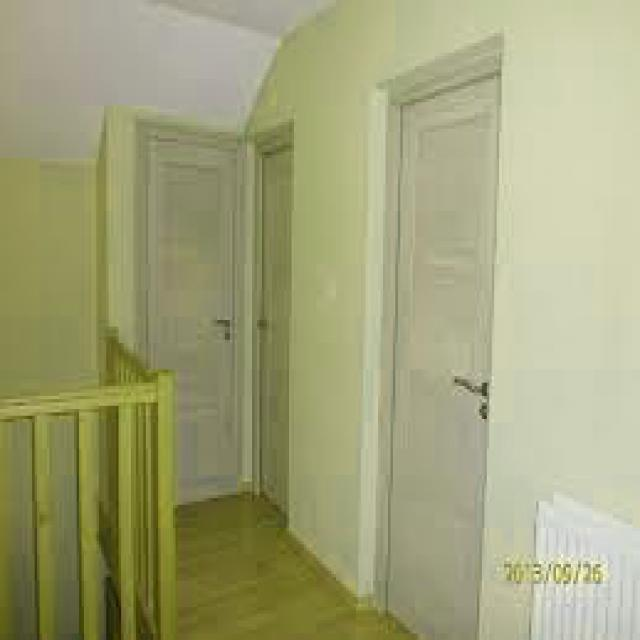door: (379, 37, 500, 639), (144, 131, 246, 495), (256, 140, 296, 515)
